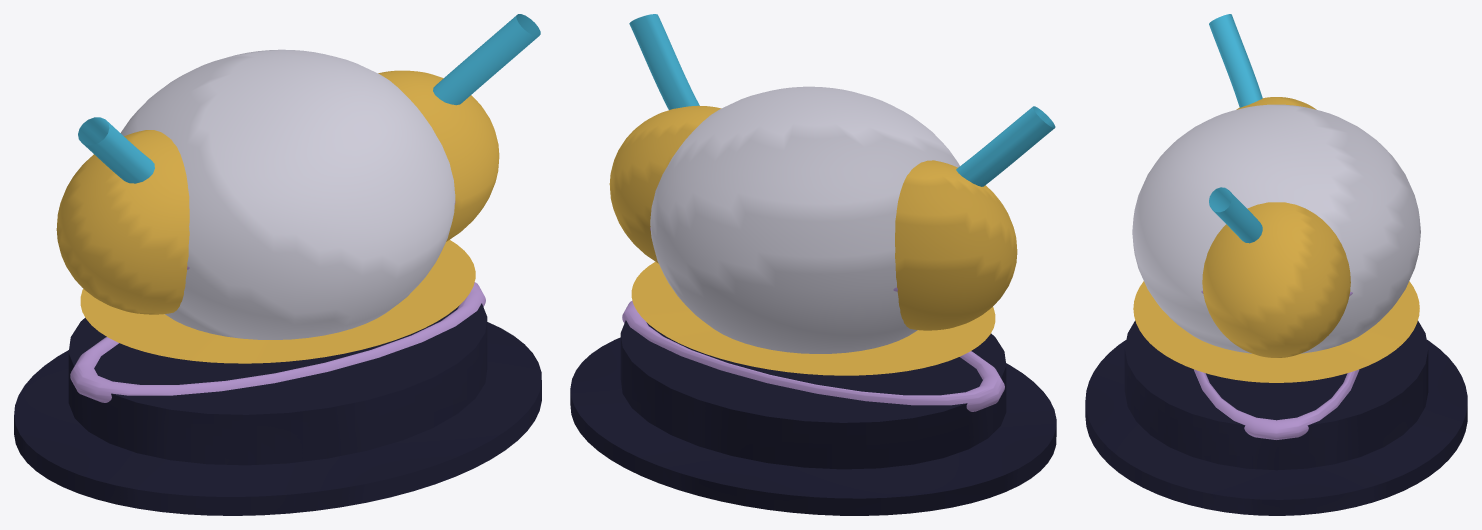
File: 0675_史前人类图鉴_马家窑文化彩陶双耳罐.glb
3 views of the same model, side by side, from view 1: azimuth 30°, elevation 25°; view 2: azimuth 150°, elevation 25°; view 3: azimuth 270°, elevation 25° (orthographic). The views are drawn at different scales.
Visible parts, largest first — view 1: card_0675; view 2: card_0675; view 3: card_0675.
Boxes of the visible parts, bbox=[...] form: card_0675: bbox=[14, 14, 541, 515]; card_0675: bbox=[570, 14, 1056, 515]; card_0675: bbox=[1085, 14, 1467, 515].
Bounding box in the file's own units: 1.35 × 1 × 1.1.
